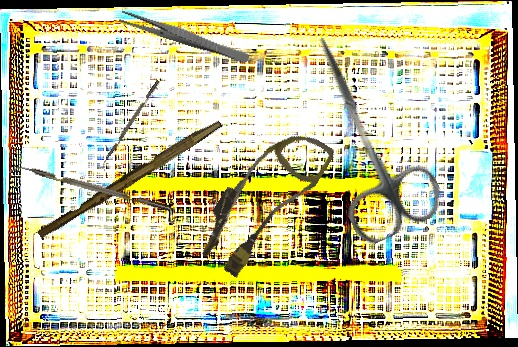Cannula: (189, 112, 337, 288)
Chopper: (8, 160, 171, 219), (98, 79, 164, 172)
Dressing Forceps: (117, 8, 252, 65)
Iris Scissors: (275, 19, 450, 250)
Scalpel Handle: (36, 114, 223, 243)
